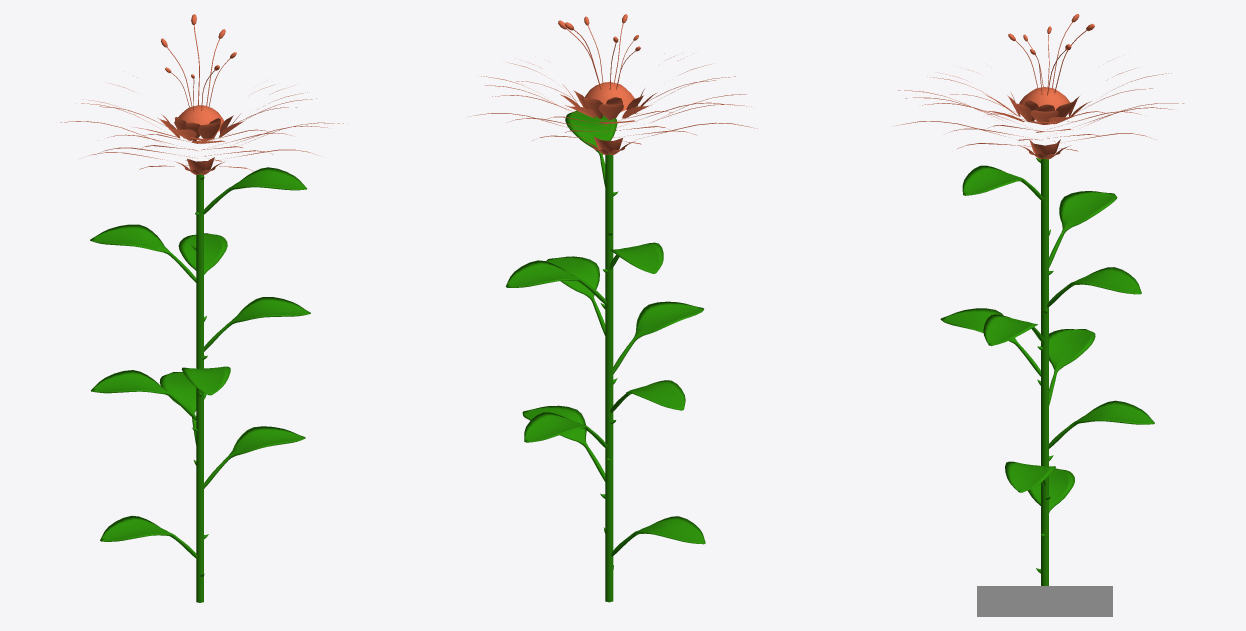
The model's file is flower1.glb.
3 renders of one model, left to right at view 1: azimuth 30°, elevation 25°; view 2: azimuth 150°, elevation 25°; view 3: azimuth 270°, elevation 25°, orthographic. The views are drawn at different scales.
Visible parts, largest first — view 1: tige, flower; view 2: tige, flower; view 3: tige, flower, base.
Boxes of the visible parts, x1,y1,x2,y2 form: tige: [90, 167, 310, 602]; flower: [60, 14, 347, 174]; tige: [505, 110, 705, 602]; flower: [469, 14, 757, 154]; tige: [940, 157, 1154, 585]; flower: [894, 14, 1184, 159]; base: [977, 586, 1112, 616].
Size of the model in its own units: 0.803 by 1.31 by 0.794.
